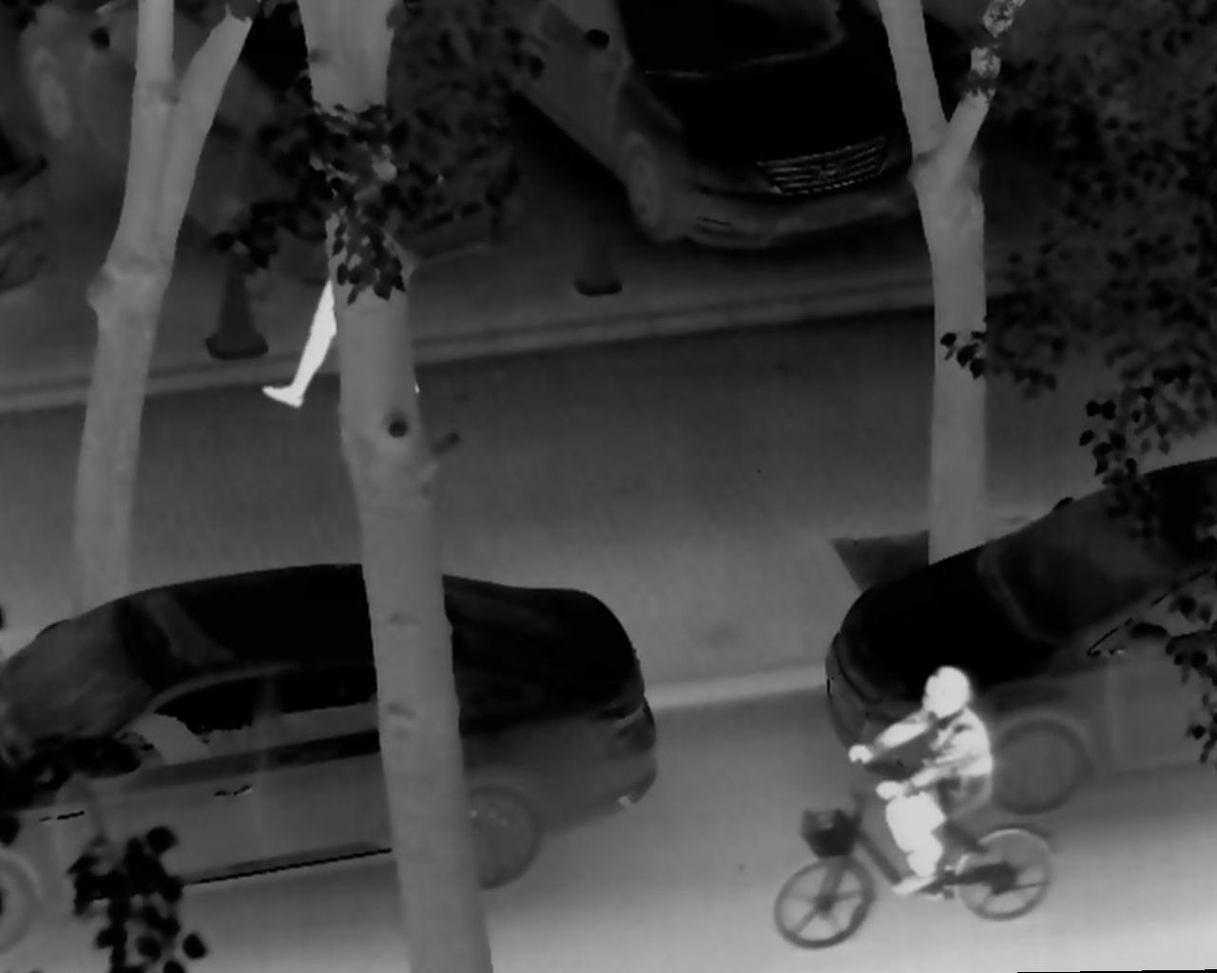person: (847, 658, 1000, 906), (253, 245, 425, 411)
